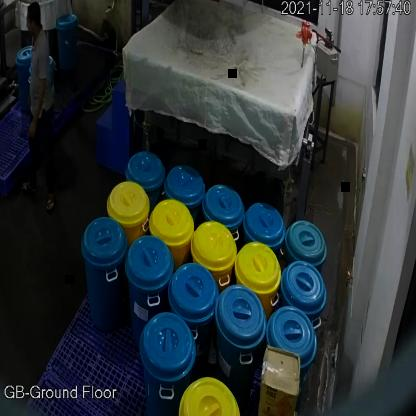no_shoes: (44, 192, 56, 214)
